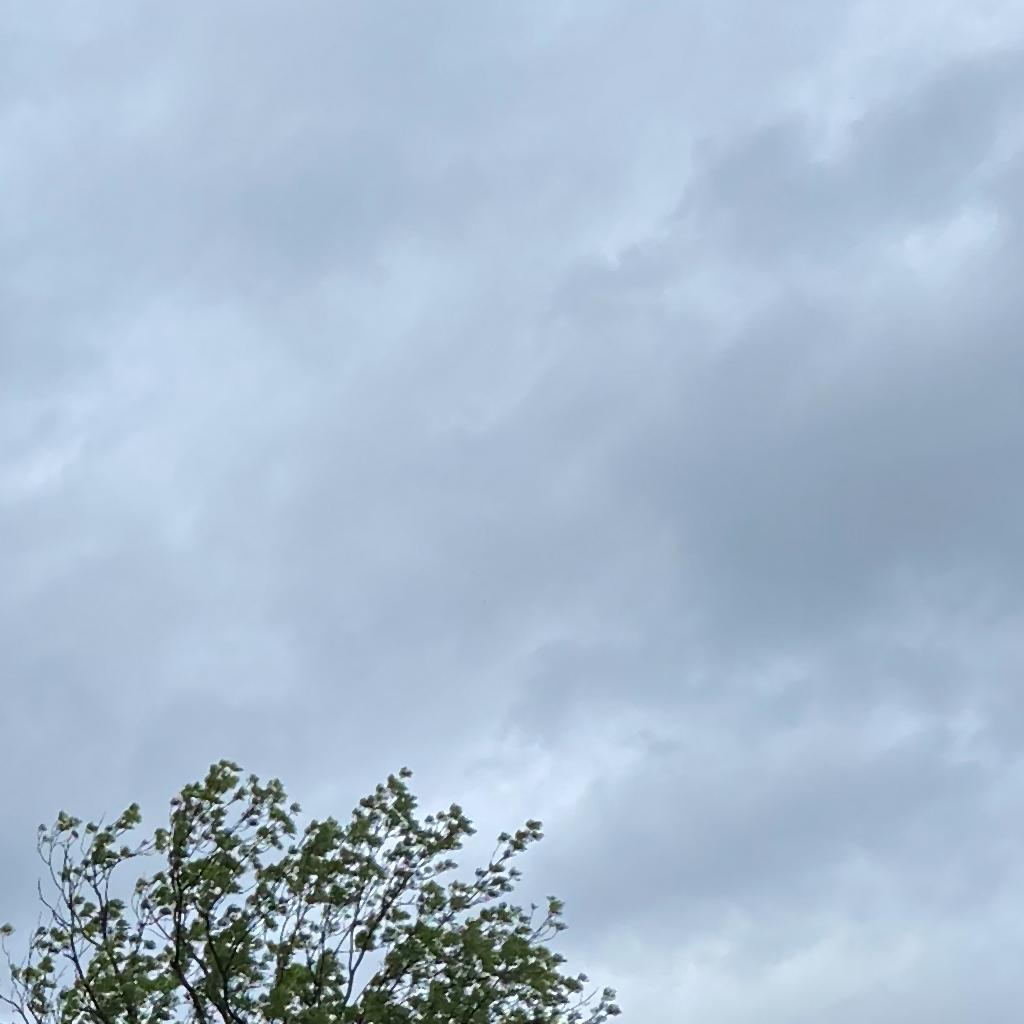tree: (1, 757, 622, 1024)
